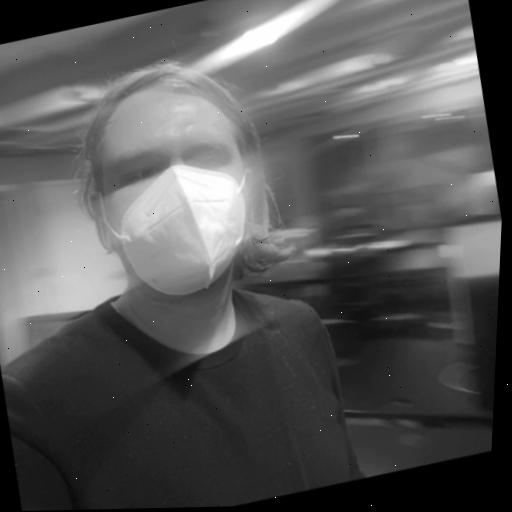mask: (40, 27, 311, 338)
